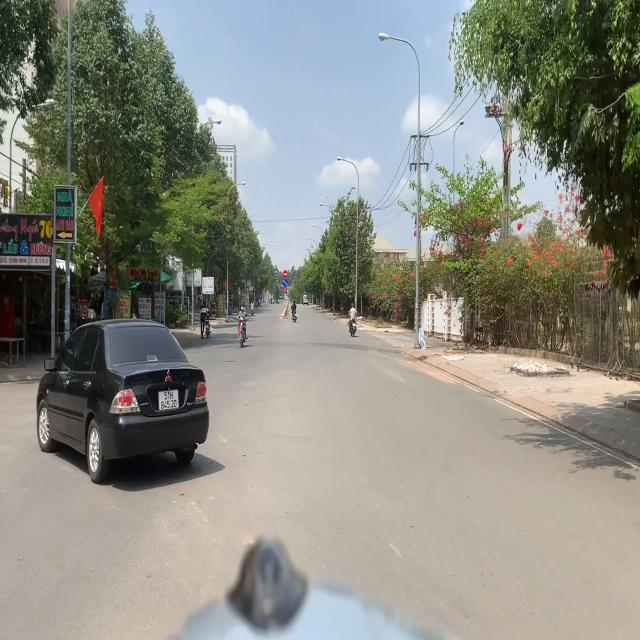Cam nguoc chieu: (283, 270, 287, 278)
Hieu lenh: (283, 279, 287, 287)
